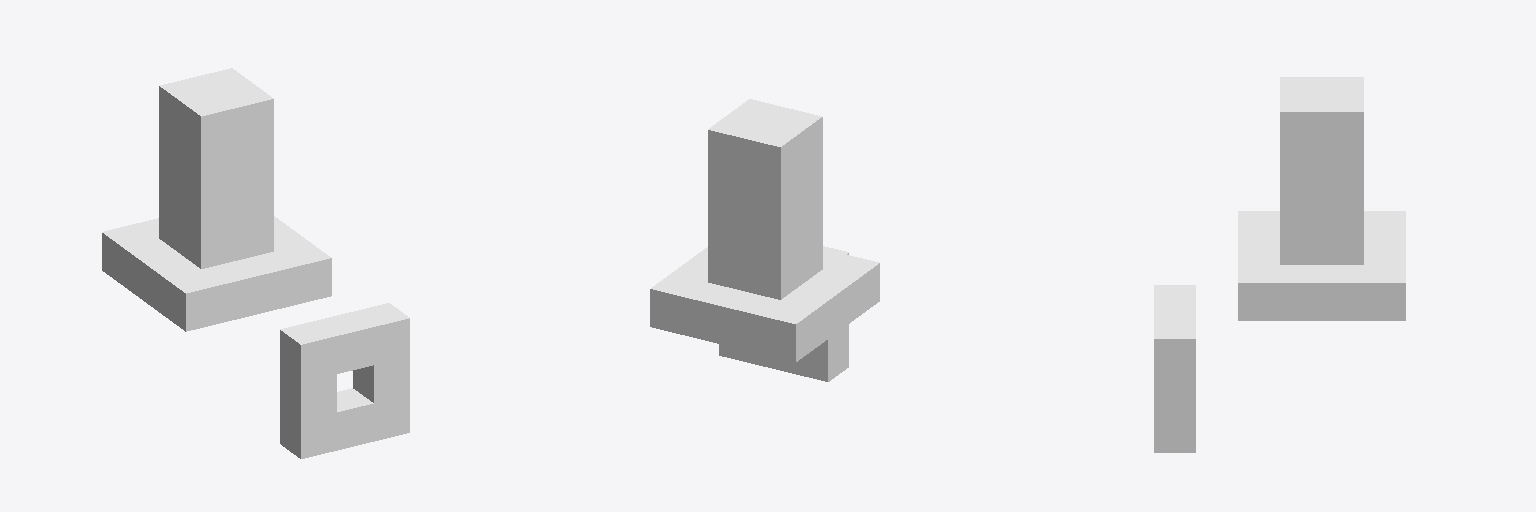
The model's file is top_hat.obj.
3 views of the same model, side by side, from view 1: azimuth 30°, elevation 25°; view 2: azimuth 150°, elevation 25°; view 3: azimuth 270°, elevation 25° (orthographic).
Parts seen in each view (by area): view 1: object 1; view 2: object 1; view 3: object 1.
Boxes of the visible parts, x1,y1,x2,y2 form: object 1: [102, 68, 409, 458]; object 1: [650, 99, 879, 381]; object 1: [1154, 77, 1405, 452].
Size of the model in its own units: 0.5 by 0.8 by 0.6.